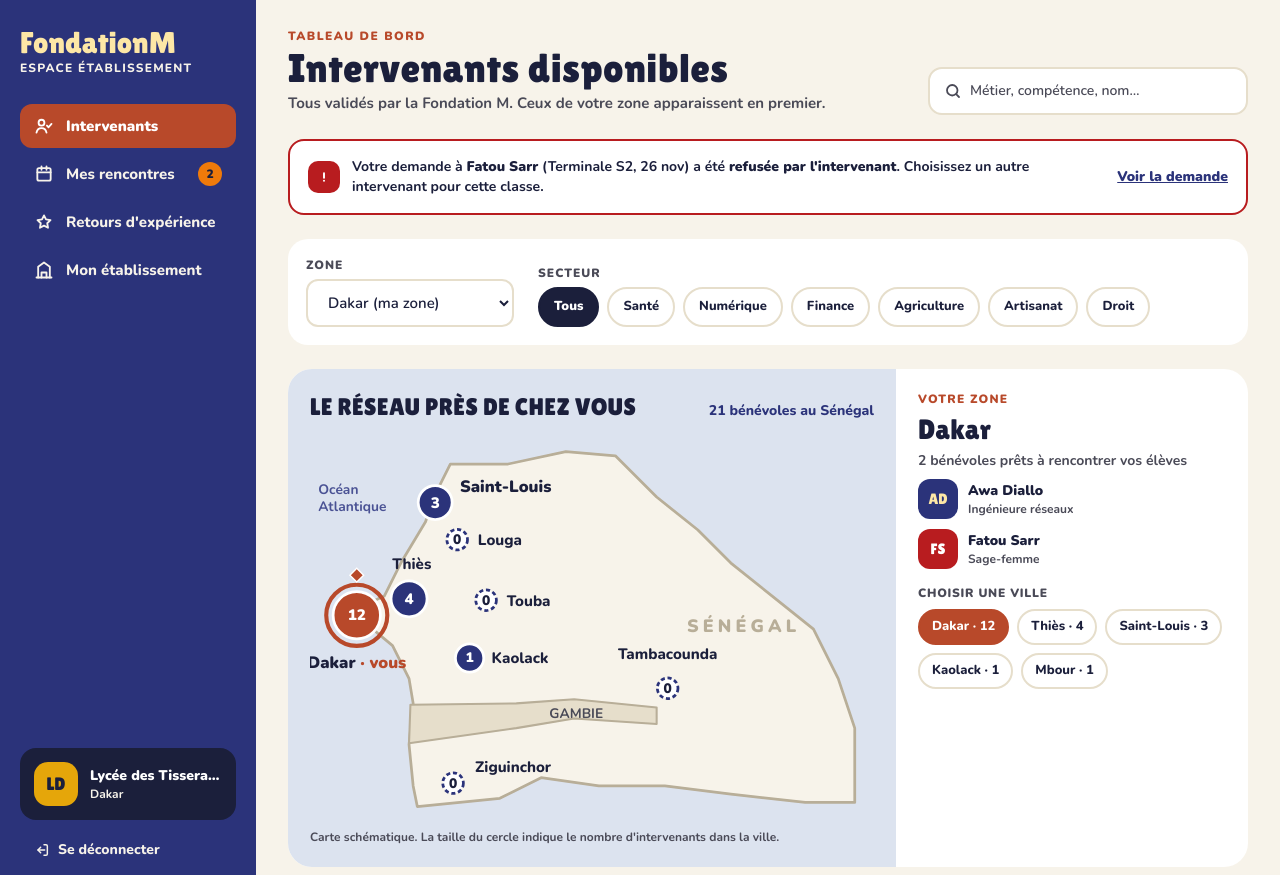
it: Mes rencontres › mène du bandeau de refus de l’annuaire à la rencontre concernée
The image size is (1280, 875).
Click the link "Voir la demande". click: (1173, 176)
box: [1117,166,1228,186]
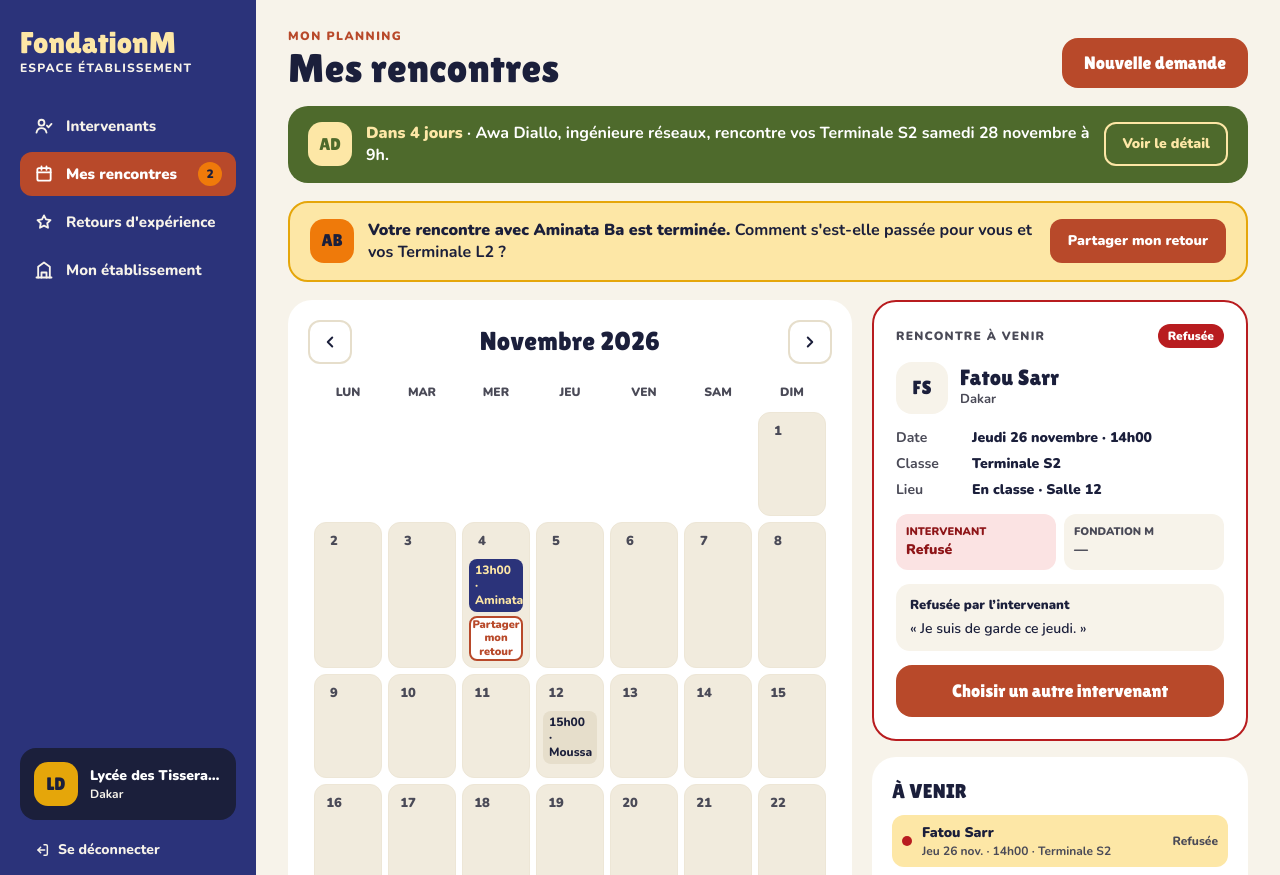
expect the element named "Détail de la rencontre" shows "Fatou Sarr": met, box [960,365,1059,390]
